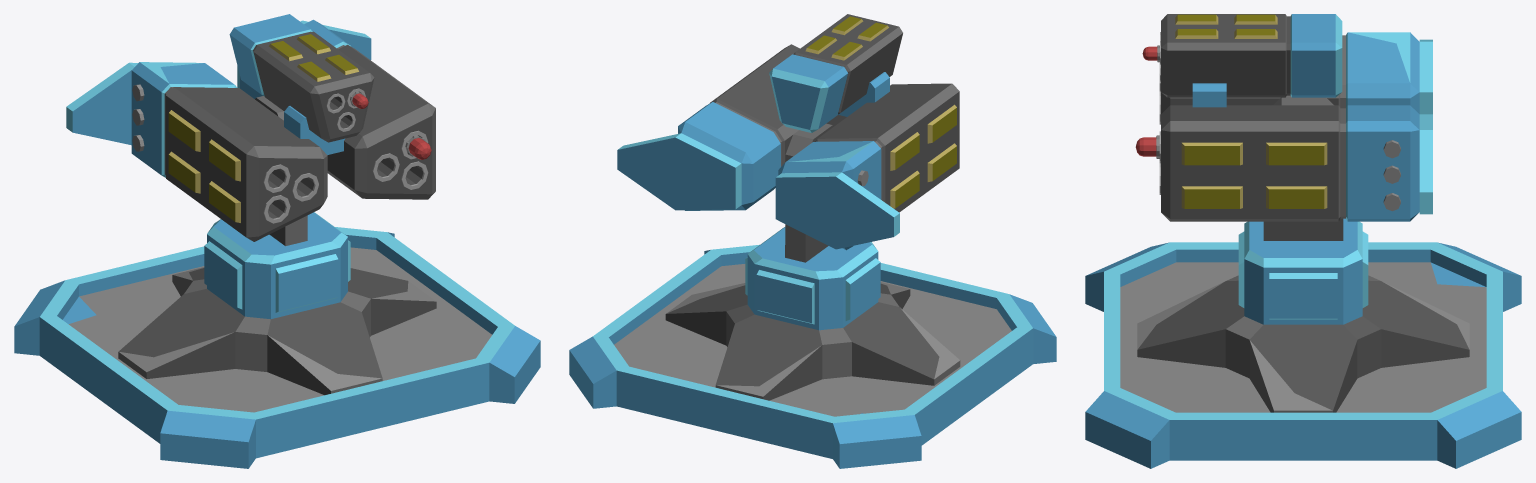
The model's file is tower_rocket_blue_3.fbx.
3 renders of one model, left to right at view 1: azimuth 30°, elevation 25°; view 2: azimuth 150°, elevation 25°; view 3: azimuth 270°, elevation 25°, orthographic. The views are drawn at different scales.
Parts seen in each view (by area): view 1: top_rocket_blue_3, tower_rocket_blue_3; view 2: top_rocket_blue_3, tower_rocket_blue_3; view 3: top_rocket_blue_3, tower_rocket_blue_3, rocket_blue_3.
Part boxes in pixels (x1,y1,x2,y2): top_rocket_blue_3: (66, 14, 436, 395); tower_rocket_blue_3: (14, 227, 540, 468); top_rocket_blue_3: (617, 14, 960, 400); tower_rocket_blue_3: (569, 244, 1056, 468); top_rocket_blue_3: (1137, 14, 1469, 412); tower_rocket_blue_3: (1085, 242, 1521, 468); rocket_blue_3: (1135, 135, 1159, 158).
Bounding box in the file's own units: 173 × 144 × 164.
